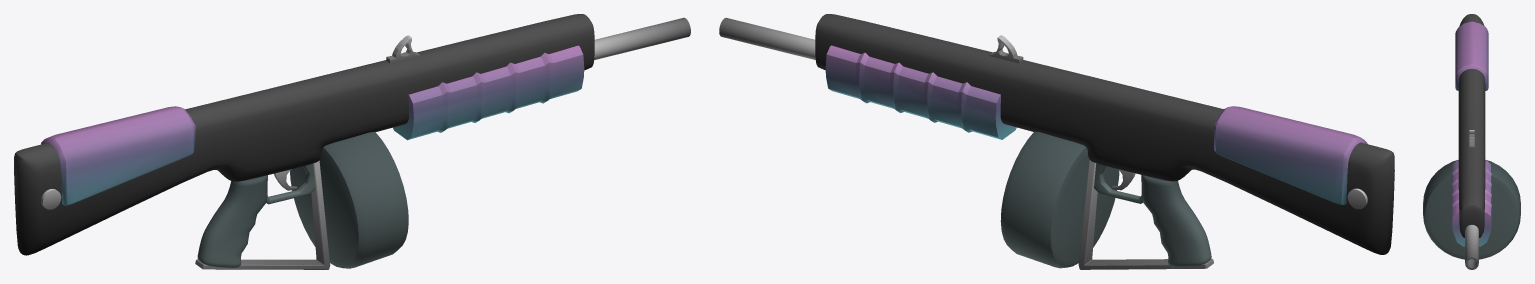
File: weapon_shotgun_auto.glb
3 views of the same model, side by side, from view 1: azimuth 30°, elevation 25°; view 2: azimuth 150°, elevation 25°; view 3: azimuth 270°, elevation 25° (orthographic). The views are drawn at different scales.
Visible parts, largest first — view 1: Cube, mag, Cube.001, grip, handle.001, support bar, Cylinder, finger_guard, iron; view 2: Cube, mag, Cube.001, grip, handle.001, support bar, Cylinder, finger_guard, iron; view 3: mag, Cube, Cube.001, grip, Cylinder, iron.
Boxes of the visible parts, box(x1,y1,x2,y2) form: Cube: box(14, 14, 594, 255); mag: box(290, 132, 408, 268); Cube.001: box(41, 106, 195, 205); grip: box(393, 45, 584, 140); handle.001: box(197, 175, 266, 267); support bar: box(195, 160, 330, 269); Cylinder: box(594, 17, 690, 59); finger_guard: box(266, 163, 315, 204); iron: box(386, 35, 420, 63); Cube: box(815, 14, 1394, 254); mag: box(1000, 131, 1119, 268); Cube.001: box(1214, 106, 1367, 204); grip: box(825, 45, 1016, 139); handle.001: box(1142, 175, 1211, 267); support bar: box(1078, 160, 1213, 269); Cylinder: box(719, 17, 815, 59); finger_guard: box(1094, 163, 1143, 203); iron: box(989, 35, 1023, 63); mag: box(1423, 160, 1520, 259); Cube: box(1458, 14, 1485, 237); Cube.001: box(1455, 21, 1488, 90); grip: box(1451, 160, 1492, 246); Cylinder: box(1465, 225, 1478, 269); iron: box(1469, 130, 1474, 147).
Bounding box in the file's own units: 1 × 0.3012 × 0.1842.
1 material, 1 textured.
